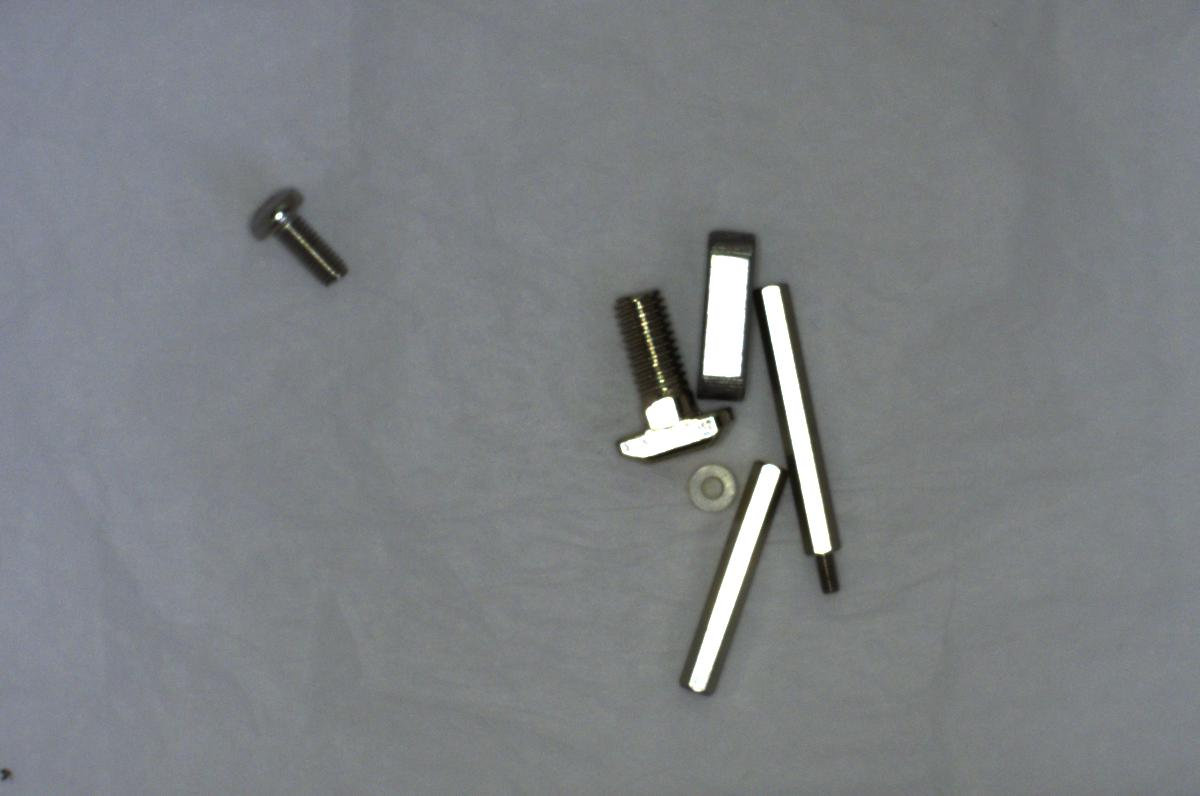Double hexagonal column: (669, 450, 785, 704)
Hexagonal steel column: (748, 269, 844, 613)
Keybar: (688, 222, 760, 404)
Plastic cushion pillar: (683, 456, 741, 514)
Round head screw: (243, 181, 362, 295)
T-shaped screw: (579, 280, 742, 468)
